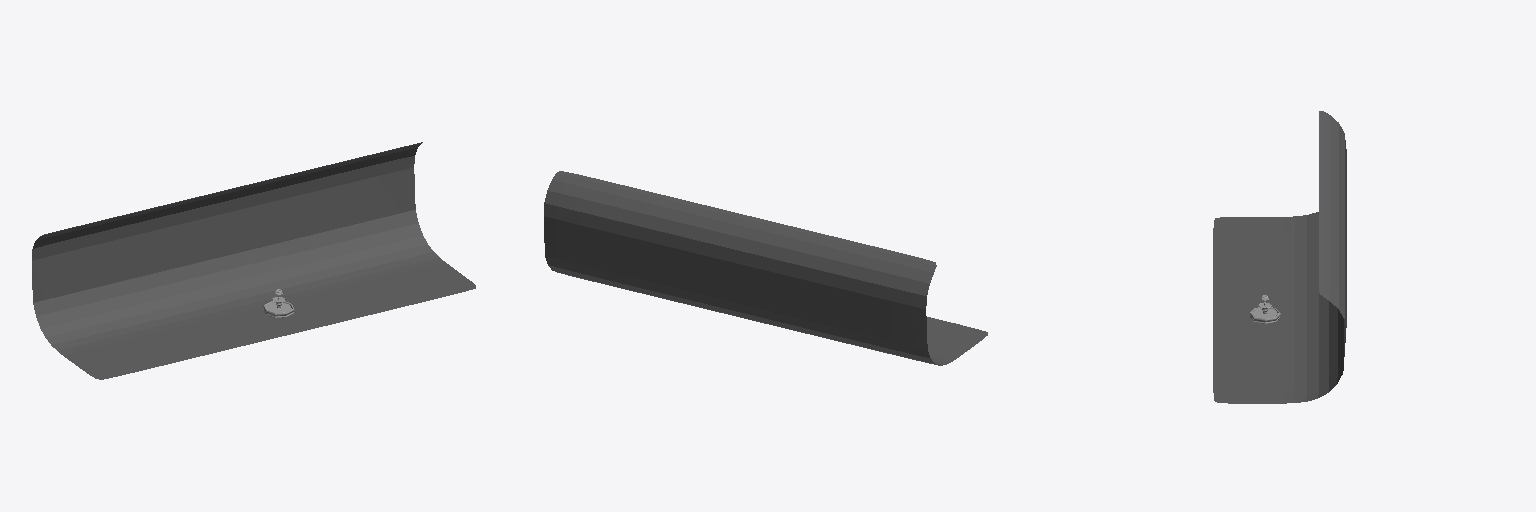
File: FontanRender1.obj
The picture shows the model from 3 angles: view 1: azimuth 30°, elevation 25°; view 2: azimuth 150°, elevation 25°; view 3: azimuth 270°, elevation 25°; orthographic projection.
Parts seen in each view (by area): view 1: Plane.003; view 2: Plane.003; view 3: Plane.003.
Boxes of the visible parts, x1,y1,x2,y2 form: Plane.003: [32, 142, 475, 379]; Plane.003: [544, 171, 987, 365]; Plane.003: [1213, 111, 1346, 403].
Bounding box in the file's own units: 61.05 × 16.56 × 18.47.